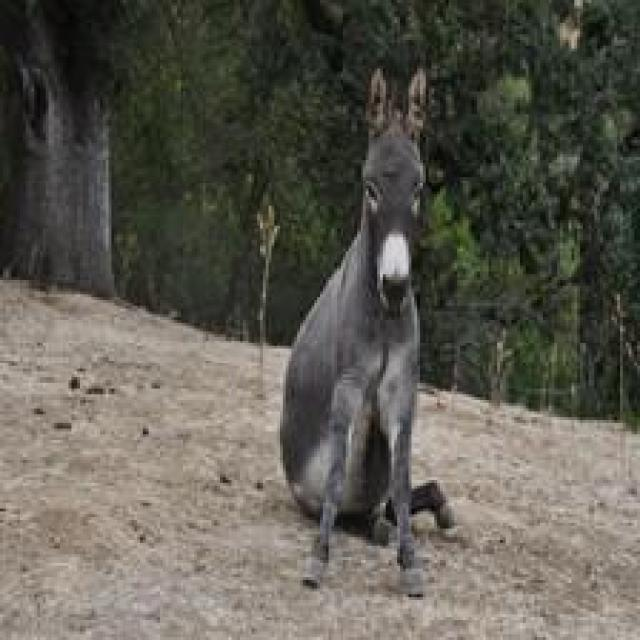Donkey: (277, 60, 457, 597)
